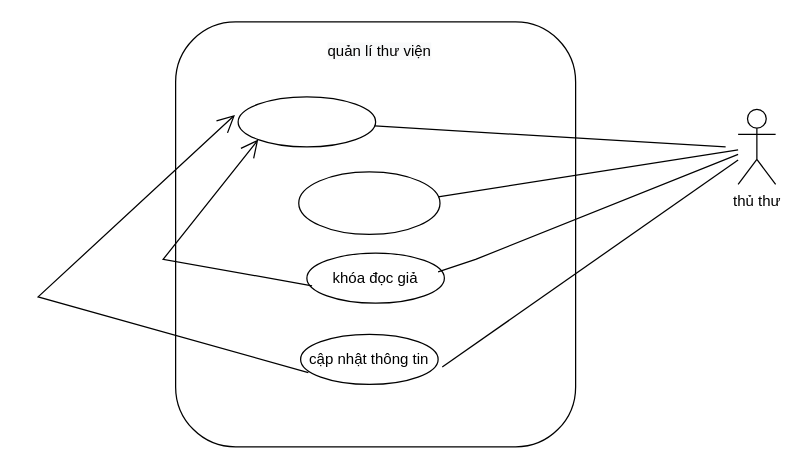
Image size: 803x469. Some labels were removed from this diagram. Each missing label, with the centre of its shape:
"thêm đọc giả" belongs at point 369,202.
"tìm đọc giả" belongs at point 306,121.
